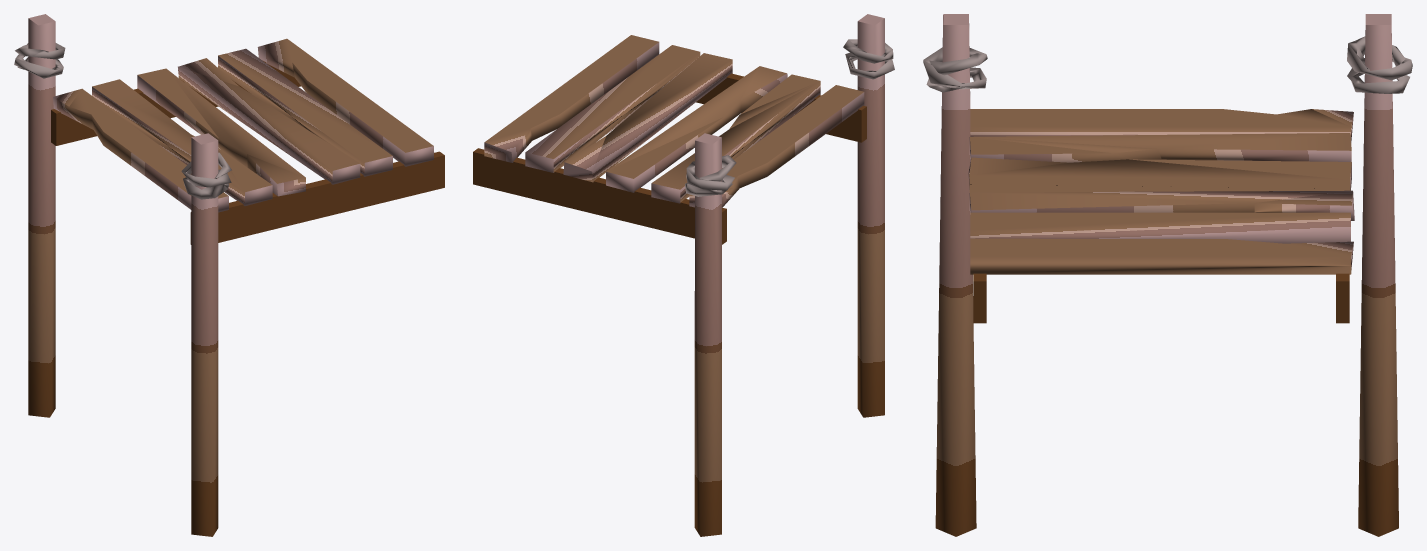
File: Environment_Dock.medium.gltf
3 views of the same model, side by side, from view 1: azimuth 30°, elevation 25°; view 2: azimuth 150°, elevation 25°; view 3: azimuth 270°, elevation 25° (orthographic). The views are drawn at different scales.
Visible parts, largest first — view 1: Environment_Dock; view 2: Environment_Dock; view 3: Environment_Dock.
Part boxes in pixels (x1,y1,x2,y2): Environment_Dock: (14,14,444,536); Environment_Dock: (473,14,894,536); Environment_Dock: (923,14,1412,536).
Size of the model in its own units: 2.17 by 3.01 by 2.63.
1 material, 1 textured.
